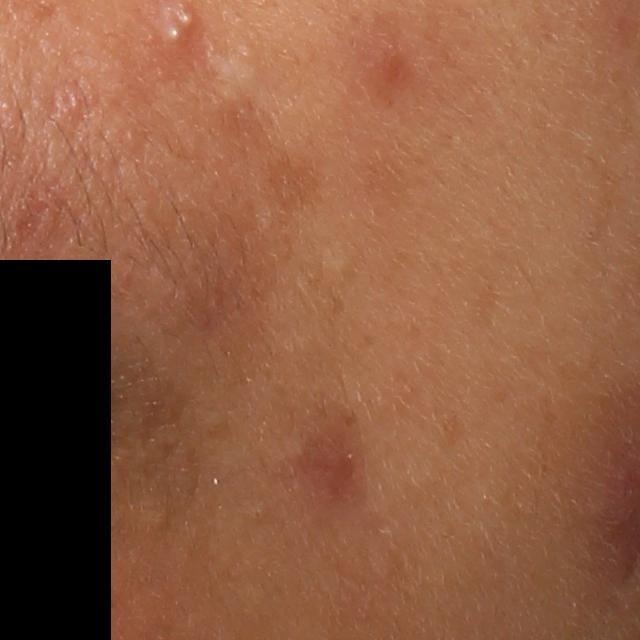comedo: (136, 502, 175, 535), (247, 506, 265, 523)
hypertrophic_scar: (201, 48, 263, 108)
